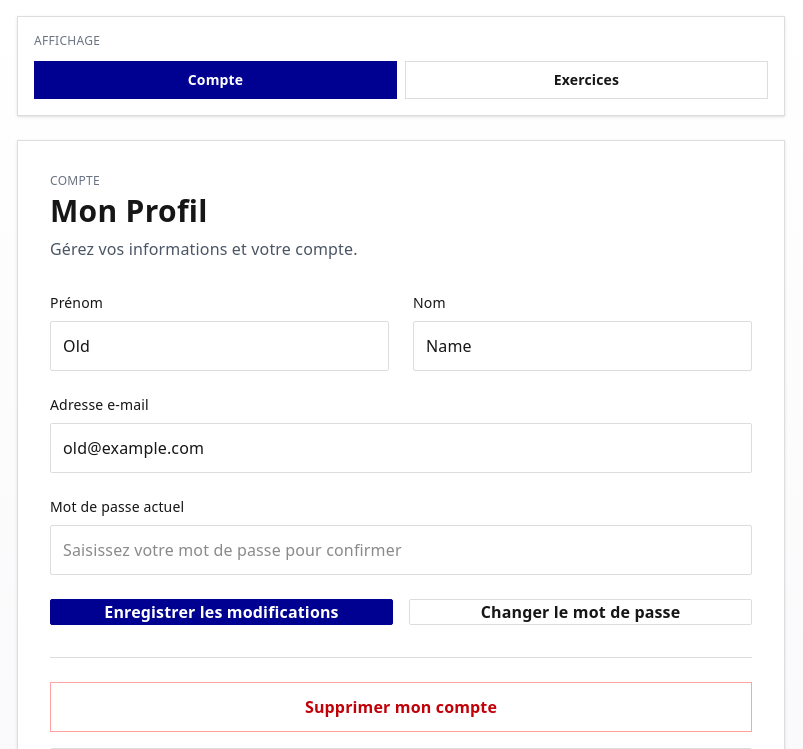
Scenario: Profile page › shows explicit error when current password is missing
Step 1. Click the button "Enregistrer les modifications" → (222, 612), box [50,599,393,625]
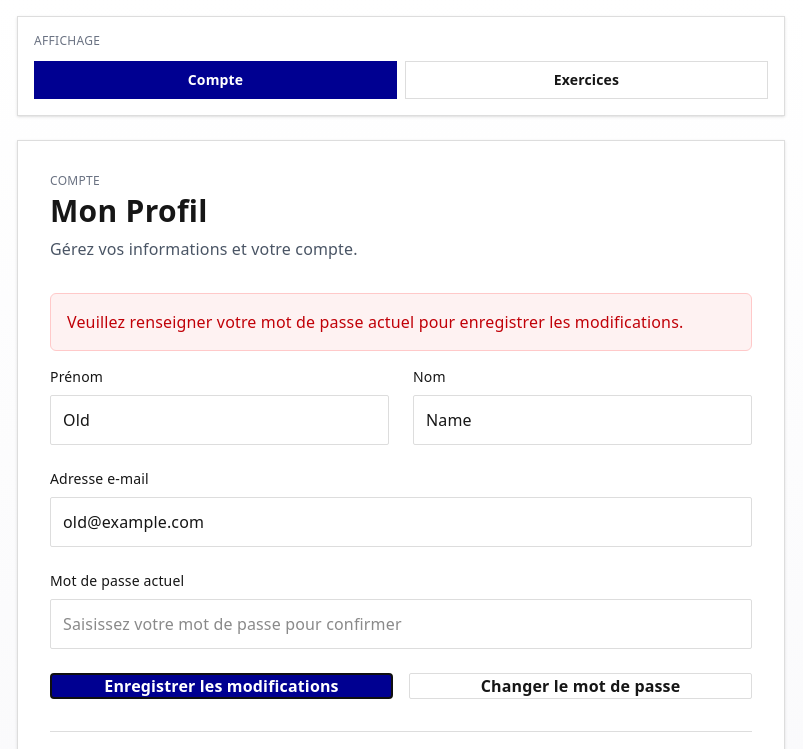
Expected: the text "Veuillez renseigner votre mot de passe actuel pour enregistrer les modifications" is shown, [67,311,683,333]
